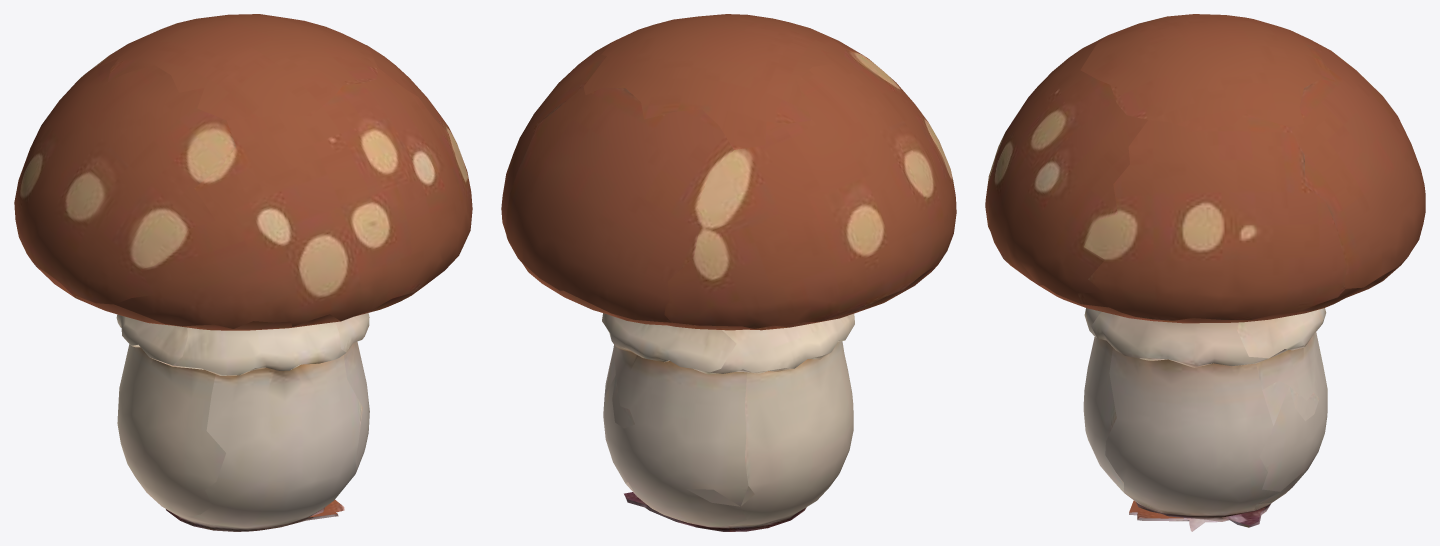
The model's file is matsutake.glb.
3 views of the same model, side by side, from view 1: azimuth 30°, elevation 25°; view 2: azimuth 150°, elevation 25°; view 3: azimuth 270°, elevation 25° (orthographic). The views are drawn at different scales.
Visible parts, largest first — view 1: item_matsutake; view 2: item_matsutake; view 3: item_matsutake.
Part boxes in pixels (x1,y1,x2,y2): item_matsutake: [14, 14, 472, 531]; item_matsutake: [501, 14, 956, 531]; item_matsutake: [985, 14, 1425, 531].
Size of the model in its own units: 0.8859 by 1 by 0.8738.
Materials: 1 (1 with a texture image).
